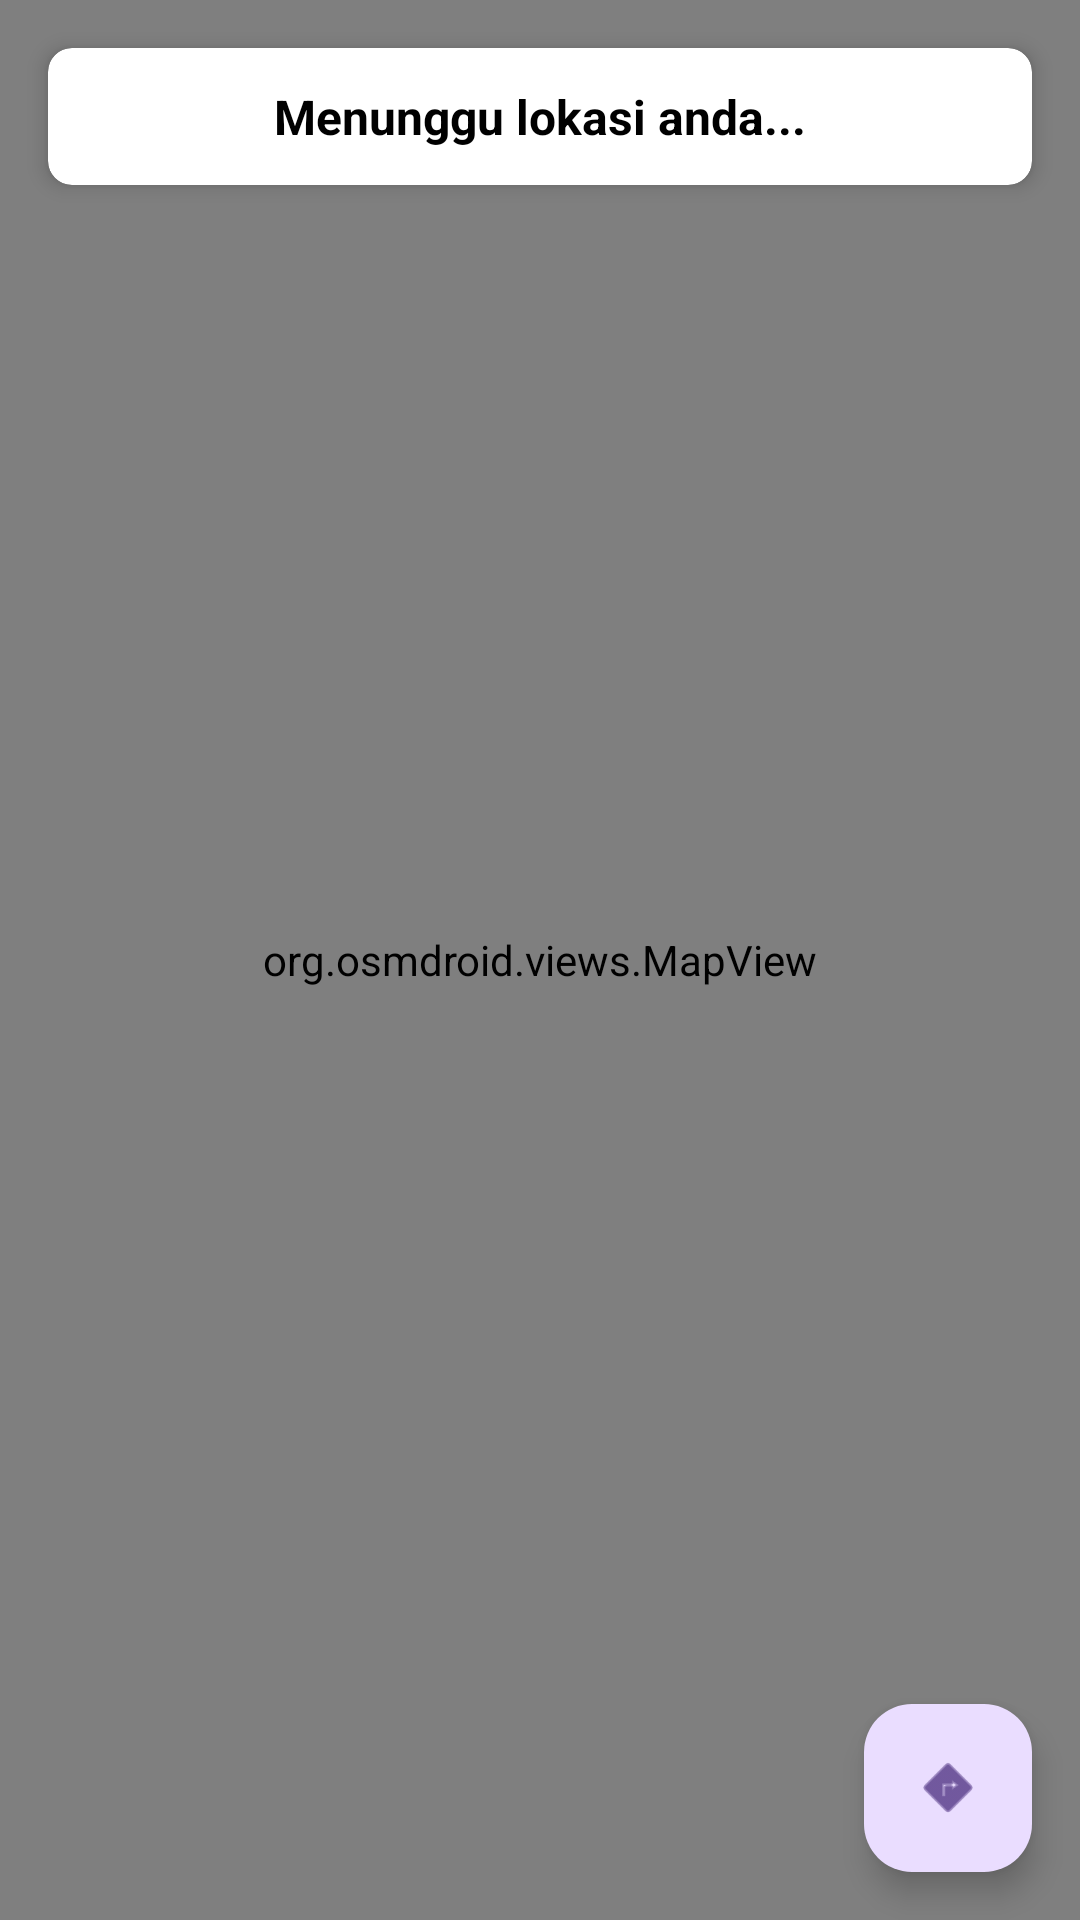

Icon bounding boxes for this 1080px x 1920px phone screenshot, format [x1=x1, y1=y1, x2=x2, y2=y2]:
directions: [x1=864, y1=1704, x2=1032, y2=1872]
